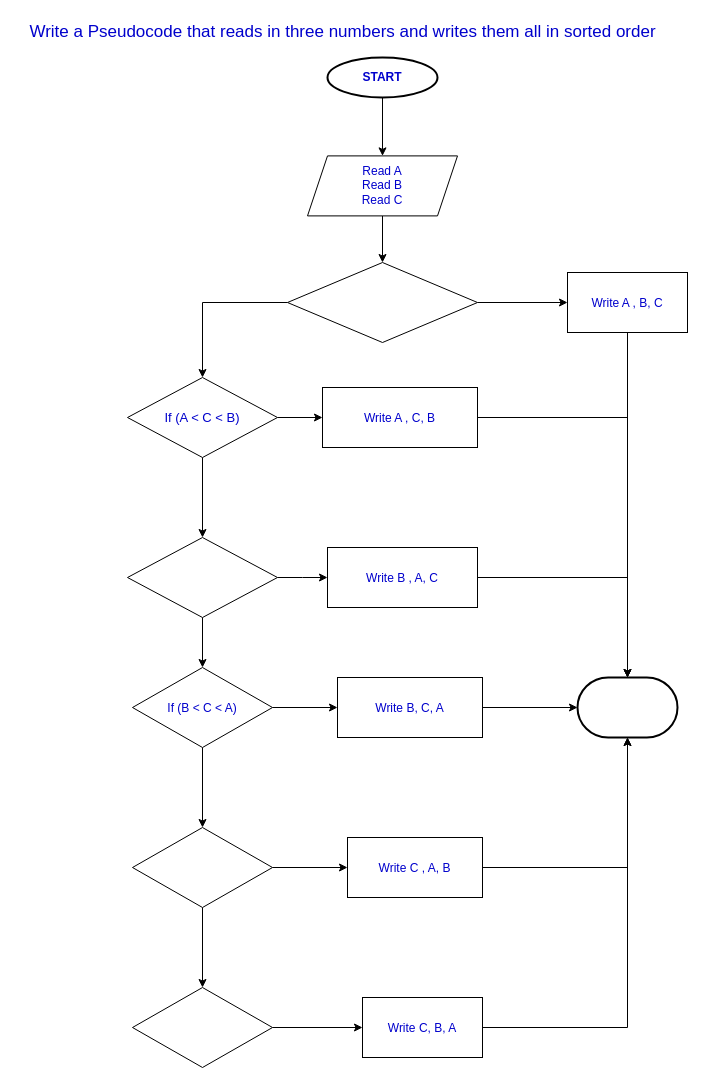
Some shapes in this 705 by 1085 pixel diagram are drawn without their labels. Each missing label, with the centre of its shape:
"END" goes at point 627,707.
"If (A < B < C)" goes at point 382,302.
"If (B < A < C)" goes at point 202,577.
"If (C < A < B)" goes at point 202,867.
"If (C < B < A)" goes at point 202,1027.
